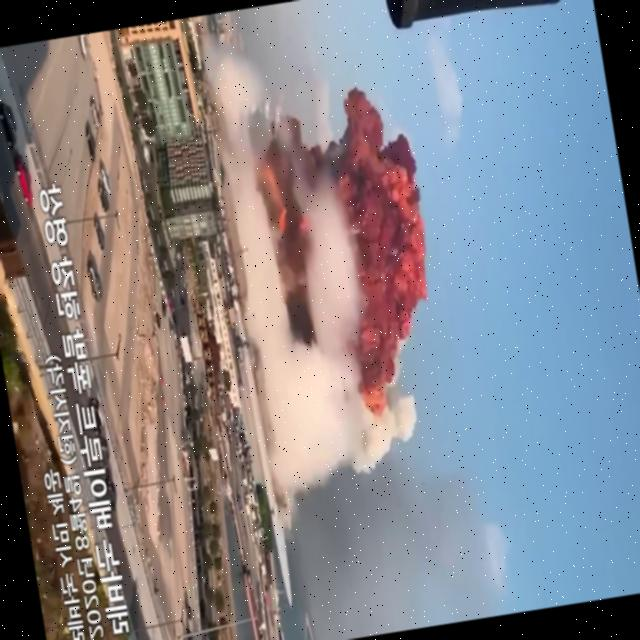explosion: (165, 11, 472, 484)
